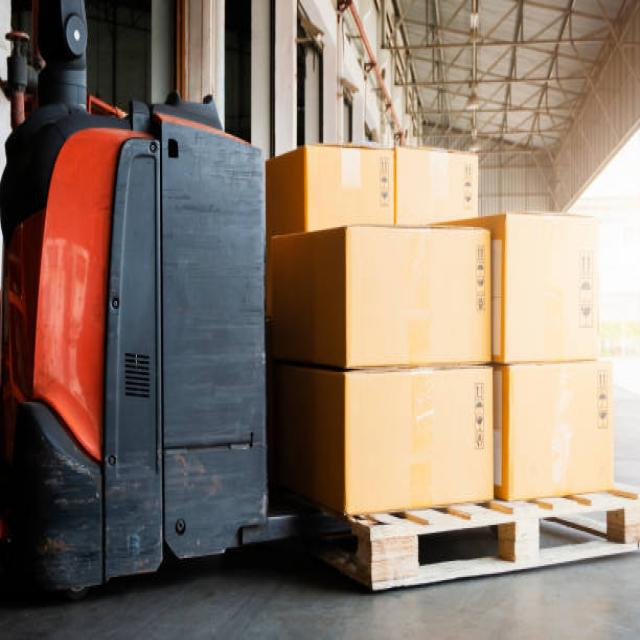Wooden-Pallets: (317, 487, 640, 598)
